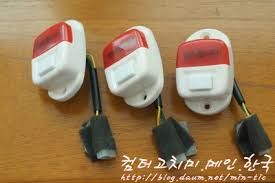bell: (28, 18, 90, 100)
